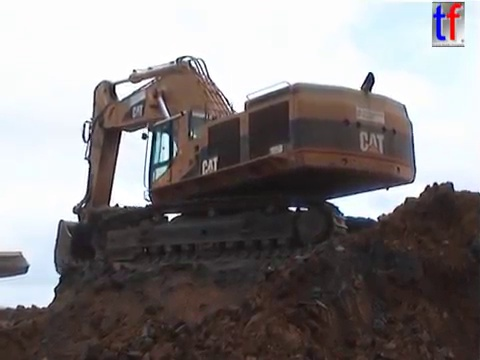excavator: (50, 52, 419, 279)
truck: (1, 248, 33, 282)
